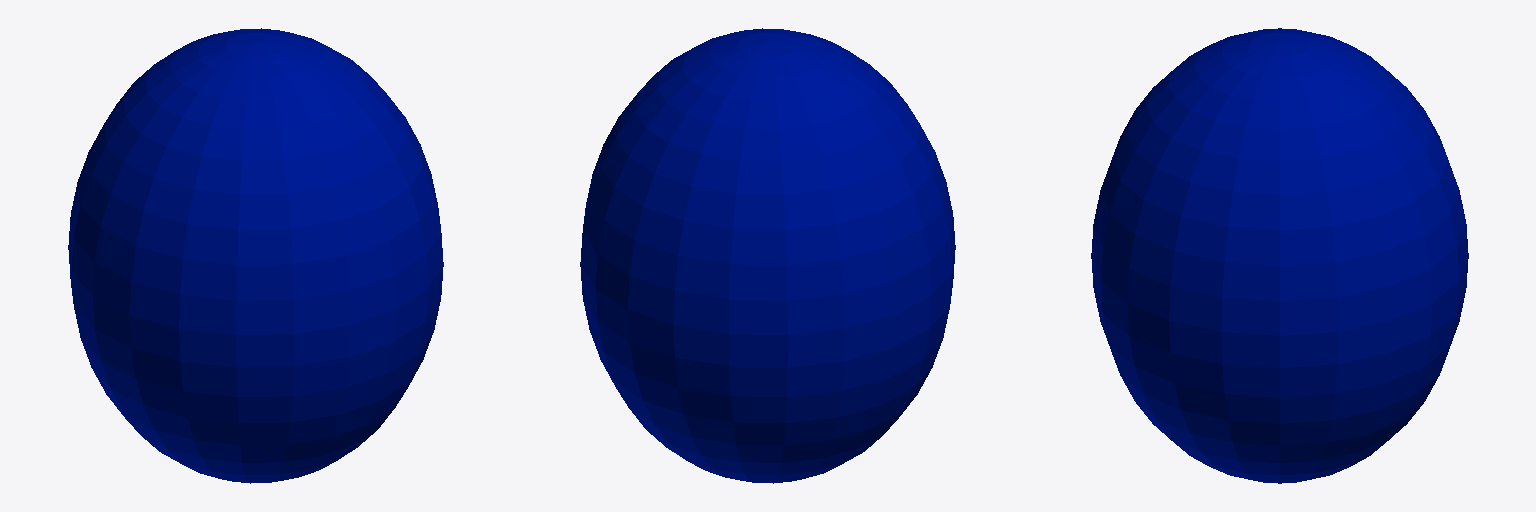
Rendered from Blue.obj.
3 views of the same model, side by side, from view 1: azimuth 30°, elevation 25°; view 2: azimuth 150°, elevation 25°; view 3: azimuth 270°, elevation 25° (orthographic).
Visible parts, largest first — view 1: pSphere1; view 2: pSphere1; view 3: pSphere1.
Boxes of the visible parts, <box> form: pSphere1: <box>68,28,443,483</box>; pSphere1: <box>580,28,955,483</box>; pSphere1: <box>1091,28,1468,483</box>.
Size of the model in its own units: 1.6 by 2 by 1.6.